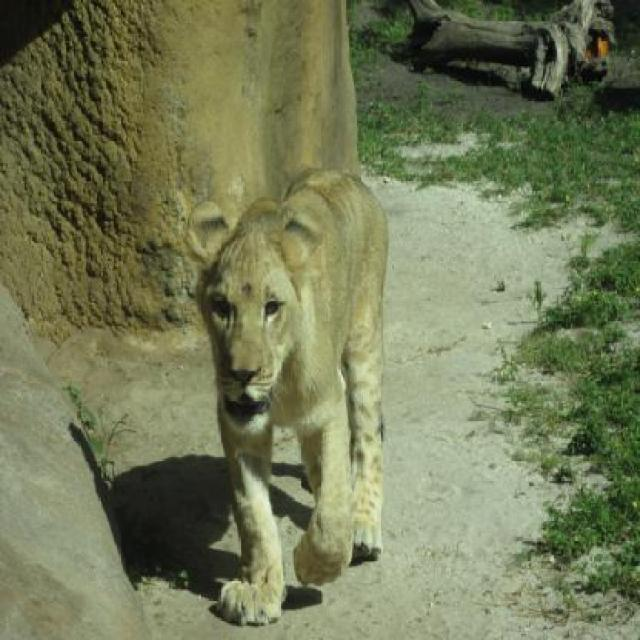Lion: (149, 121, 426, 638)
